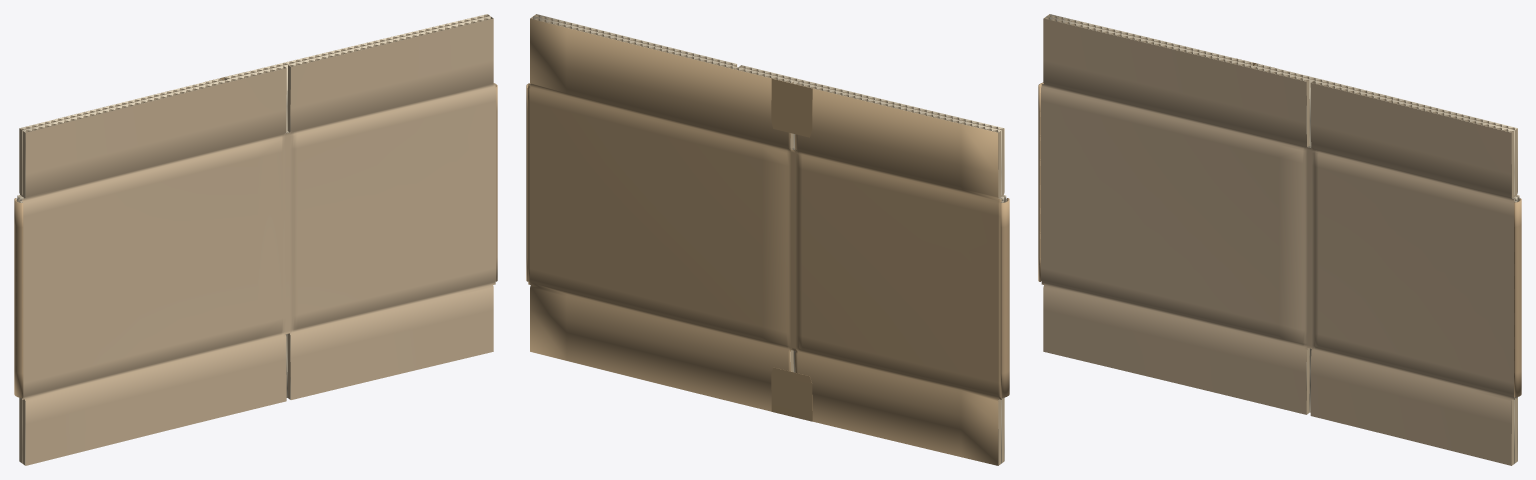
File: cardboard_sheet.glb
3 views of the same model, side by side, from view 1: azimuth 30°, elevation 25°; view 2: azimuth 150°, elevation 25°; view 3: azimuth 330°, elevation 25° (orthographic).
Visible parts, largest first — view 1: Front, Body; view 2: Body; view 3: Front, Body.
Part boxes in pixels (x1,y1,x2,y2): Front: (22, 18, 496, 465); Body: (14, 14, 497, 465); Body: (526, 14, 1009, 465); Front: (1041, 18, 1514, 465); Body: (1038, 14, 1521, 465).
Size of the model in its own units: 1.12 by 0.7405 by 0.0346.
